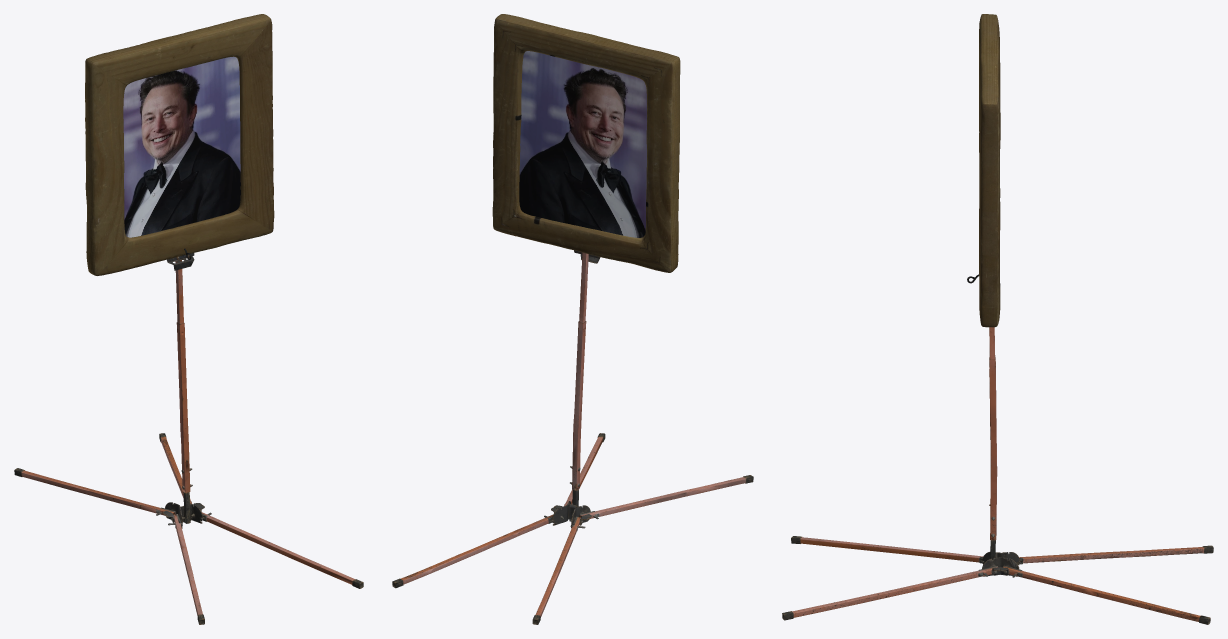
Rendered from frame1.glb.
3 renders of one model, left to right at view 1: azimuth 30°, elevation 25°; view 2: azimuth 150°, elevation 25°; view 3: azimuth 270°, elevation 25°, orthographic. The views are drawn at different scales.
Visible parts, largest first — view 1: Empty.004; view 2: Empty.004; view 3: Empty.004.
Part boxes in pixels (bbox=[...]): Empty.004: bbox=[14, 14, 363, 624]; Empty.004: bbox=[392, 14, 753, 624]; Empty.004: bbox=[782, 14, 1213, 624].
Bounding box in the file's own units: 1.06 × 2.78 × 2.08.
3 materials, 3 textured.
